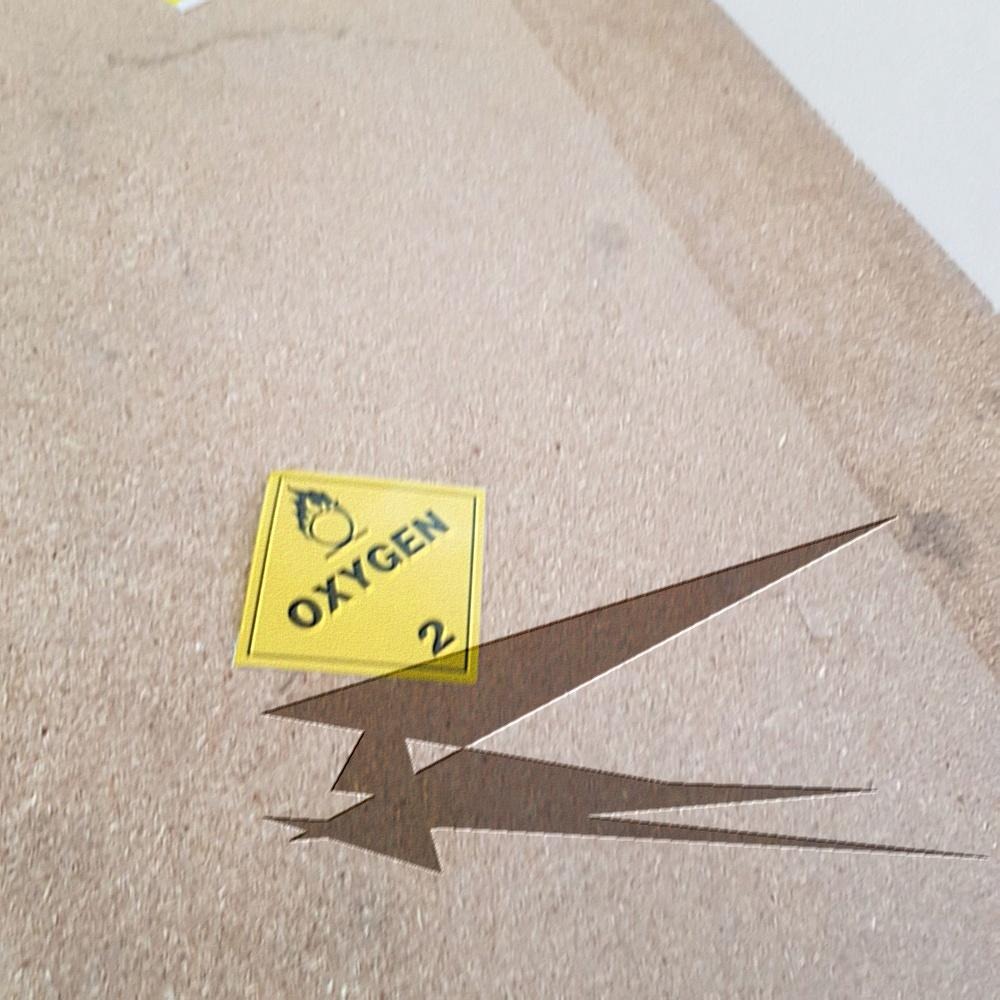oxidizer: (221, 474, 478, 691)
